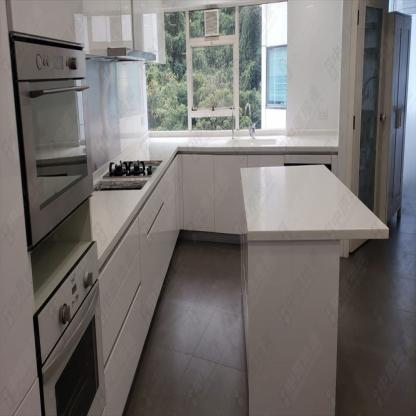Cupboard: (99, 153, 240, 415)
Exhaust Hood: (90, 46, 156, 62)
Faucet: (240, 99, 255, 136)
Oven: (15, 39, 94, 251), (37, 243, 107, 415)
Sink: (225, 138, 276, 145)
Stove: (104, 160, 161, 177)
